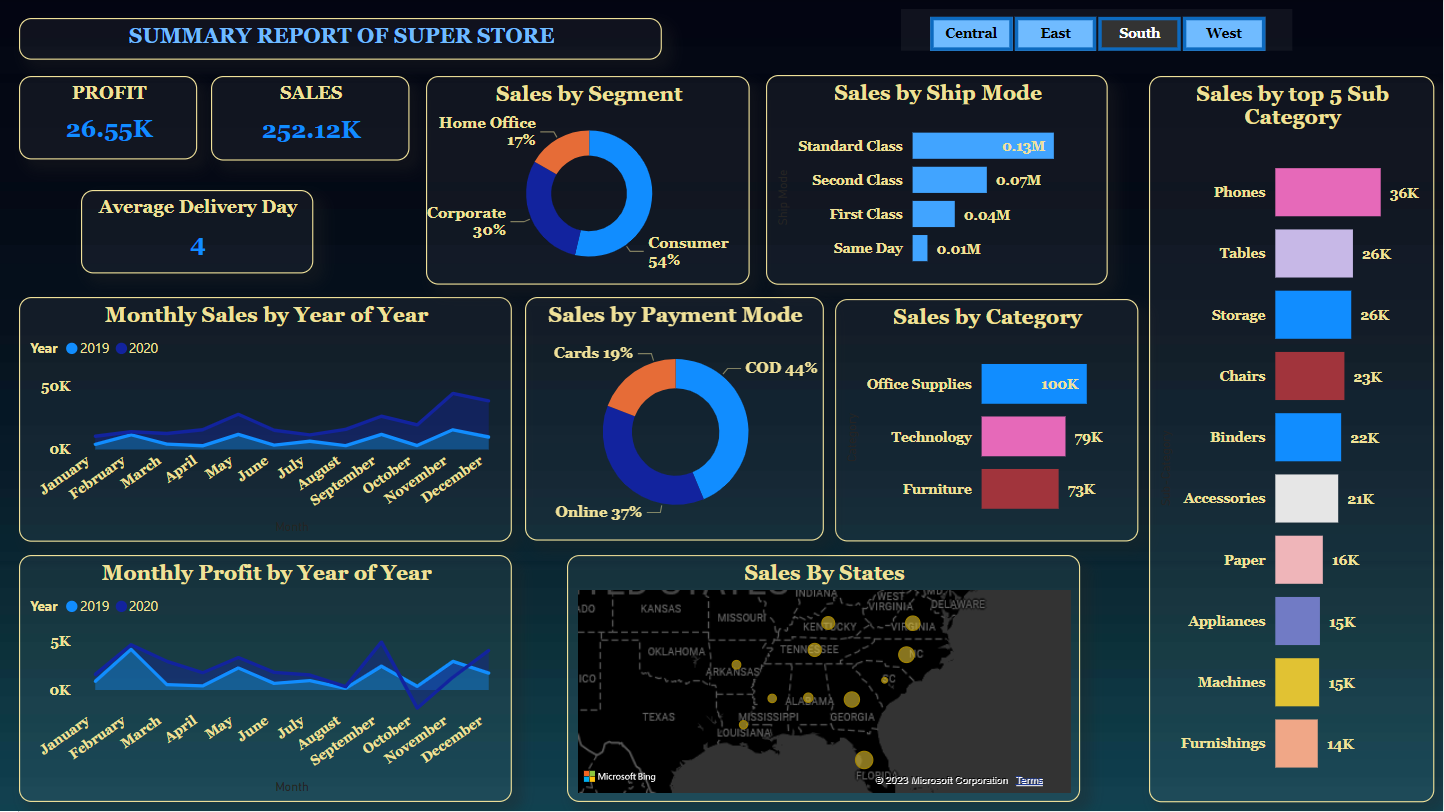

What the dashboard file says about the page in this screenshot:
{"tool":"powerbi","page":{"name":"Page 1","canvas":[1280,720],"ordinal":0},"visuals":[{"type":"clusteredBarChart","title":"Sales by Category","fields":{"Category":["SuperStore_Sales_Dataset.Category"],"Y":["Sum(SuperStore_Sales_Dataset.Sales)"]},"box":[740.4,266,268.7,214.6],"z":0},{"type":"clusteredBarChart","title":"Sales by top 5 Sub Category","fields":{"Y":["Sum(SuperStore_Sales_Dataset.Sales)"],"Category":["SuperStore_Sales_Dataset.Sub-Category"]},"box":[1018.8,68.3,252.7,643.7],"z":1000},{"type":"clusteredBarChart","title":"Sales by Ship Mode","fields":{"Y":["Sum(SuperStore_Sales_Dataset.Sales)"],"Category":["SuperStore_Sales_Dataset.Ship Mode"]},"box":[679.2,67.4,303.3,186.2],"z":2000},{"type":"stackedAreaChart","title":"Monthly Sales by Year of Year","fields":{"Y":["Sum(SuperStore_Sales_Dataset.Sales)"],"Series":["SuperStore_Sales_Dataset.Order Date.Variation.Date Hierarchy.Year"],"Category":["SuperStore_Sales_Dataset.Order Date.Variation.Date Hierarchy.Month"]},"box":[16.8,264.2,437.1,217.2],"z":3000},{"type":"stackedAreaChart","title":"Monthly Profit by Year of Year","fields":{"Series":["SuperStore_Sales_Dataset.Order Date.Variation.Date Hierarchy.Year"],"Category":["SuperStore_Sales_Dataset.Order Date.Variation.Date Hierarchy.Month"],"Y":["Sum(SuperStore_Sales_Dataset.Profit)"]},"box":[16.8,493,437.1,219],"z":4000},{"type":"map","title":"Sales By States","fields":{"Category":["SuperStore_Sales_Dataset.State"],"Size":["Sum(SuperStore_Sales_Dataset.Sales)"]},"box":[502.8,493,454.9,219],"z":5000},{"type":"donutChart","title":"Sales by Segment","fields":{"Category":["SuperStore_Sales_Dataset.Segment"],"Y":["Sum(SuperStore_Sales_Dataset.Sales)"]},"box":[377.7,68.3,287.3,185.3],"z":6000},{"type":"donutChart","title":"Sales by Payment Mode","fields":{"Y":["Sum(SuperStore_Sales_Dataset.Sales)"],"Category":["SuperStore_Sales_Dataset.Payment Mode"]},"box":[465.5,264.2,265.1,216.4],"z":7000},{"type":"slicer","fields":{"Values":["SuperStore_Sales_Dataset.Region"]},"box":[798.9,8.9,346.7,37.2],"z":8000},{"type":"textbox","title":"SUMMARY REPORT OF SUPER STORE","box":[16.8,16.8,570.1,37.2],"z":9000},{"type":"card","title":"PROFIT","fields":{"Values":["Sum(SuperStore_Sales_Dataset.Profit)"]},"box":[16.8,68.3,157.8,73.6],"z":10000},{"type":"card","title":"SALES","fields":{"Values":["Sum(SuperStore_Sales_Dataset.Sales)"]},"box":[187.1,68.3,175.6,75.4],"z":11000},{"type":"card","title":"Average Delivery Day","fields":{"Values":["Avg(SuperStore_Sales_Dataset.AvgDelivery)"]},"box":[71.8,169.4,205.7,73.6],"z":12000}]}

Visuals, with their boxes in screenshot pixels (x1, y1, x2, y2), scaled from the page's 1280x720 canvas onto the 1444x812 screenshot:
"Sales by Category" clusteredBarChart: [left=835, top=300, right=1138, bottom=542]
"Sales by top 5 Sub Category" clusteredBarChart: [left=1149, top=77, right=1434, bottom=803]
"Sales by Ship Mode" clusteredBarChart: [left=766, top=76, right=1108, bottom=286]
"Monthly Sales by Year of Year" stackedAreaChart: [left=19, top=298, right=512, bottom=543]
"Monthly Profit by Year of Year" stackedAreaChart: [left=19, top=556, right=512, bottom=803]
"Sales By States" map: [left=567, top=556, right=1080, bottom=803]
"Sales by Segment" donutChart: [left=426, top=77, right=750, bottom=286]
"Sales by Payment Mode" donutChart: [left=525, top=298, right=824, bottom=542]
slicer - SuperStore_Sales_Dataset.Region: [left=901, top=10, right=1292, bottom=52]
"SUMMARY REPORT OF SUPER STORE" textbox: [left=19, top=19, right=662, bottom=61]
"PROFIT" card: [left=19, top=77, right=197, bottom=160]
"SALES" card: [left=211, top=77, right=409, bottom=162]
"Average Delivery Day" card: [left=81, top=191, right=313, bottom=274]
